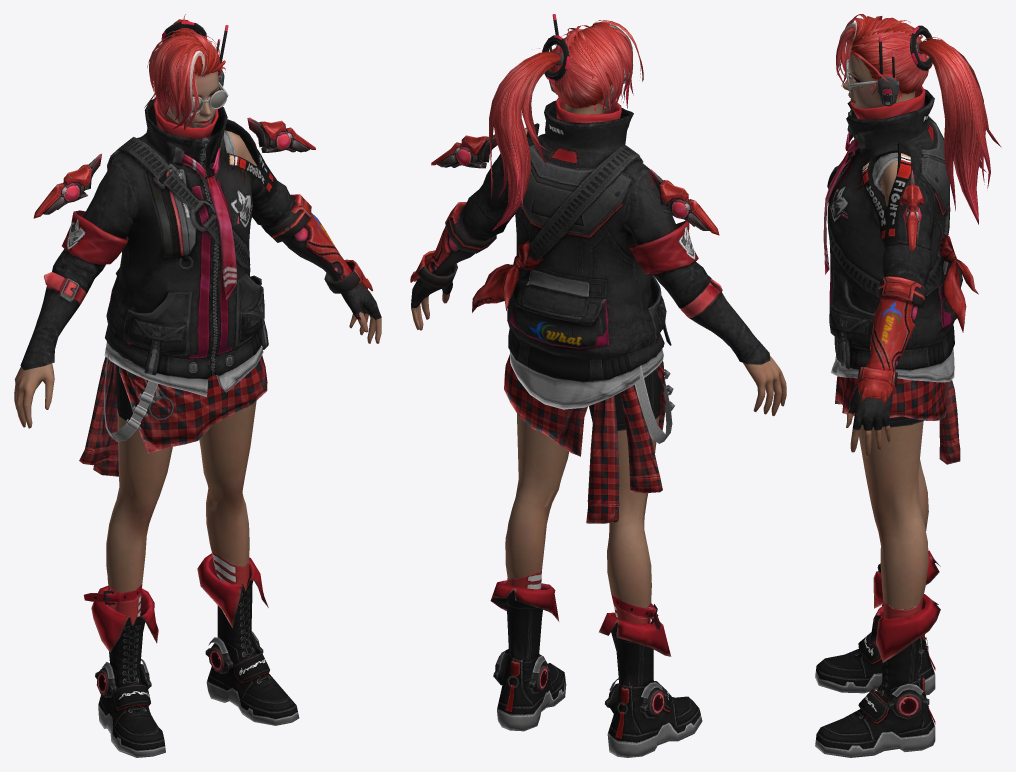
Rendered from Collage Girl.obj.
3 views of the same model, side by side, from view 1: azimuth 30°, elevation 25°; view 2: azimuth 150°, elevation 25°; view 3: azimuth 270°, elevation 25° (orthographic). The views are drawn at different scales.
Parts seen in each view (by area): view 1: female_top_cos_college_female_lobby_top_cos_college.002, female_Bottom_cos_college_female_lobby_top_cos_college.008, female_Shoes_cos_college_female_lobby_top_cos_college.007, female_Hair_cos_college_female_lobby_top_cos_college.001, female_Head_cos_college_female_lobby_top_cos_college.004, female_accesery_cos_college_female_lobby_top_cos_college.006; view 2: female_top_cos_college_female_lobby_top_cos_college.002, female_Bottom_cos_college_female_lobby_top_cos_college.008, female_Shoes_cos_college_female_lobby_top_cos_college.007, female_Hair_cos_college_female_lobby_top_cos_college.001, female_accesery_cos_college_female_lobby_top_cos_college.006; view 3: female_top_cos_college_female_lobby_top_cos_college.002, female_Bottom_cos_college_female_lobby_top_cos_college.008, female_Shoes_cos_college_female_lobby_top_cos_college.007, female_Hair_cos_college_female_lobby_top_cos_college.001, female_accesery_cos_college_female_lobby_top_cos_college.006, female_Head_cos_college_female_lobby_top_cos_college.004.
Boxes of the visible parts, left/top/right/bottom form: female_top_cos_college_female_lobby_top_cos_college.002: left=14, top=98, right=381, bottom=428; female_Bottom_cos_college_female_lobby_top_cos_college.008: left=79, top=341, right=267, bottom=625; female_Shoes_cos_college_female_lobby_top_cos_college.007: left=91, top=553, right=299, bottom=757; female_Hair_cos_college_female_lobby_top_cos_college.001: left=144, top=14, right=225, bottom=130; female_Head_cos_college_female_lobby_top_cos_college.004: left=160, top=64, right=218, bottom=127; female_accesery_cos_college_female_lobby_top_cos_college.006: left=161, top=21, right=228, bottom=115; female_top_cos_college_female_lobby_top_cos_college.002: left=410, top=97, right=786, bottom=416; female_Bottom_cos_college_female_lobby_top_cos_college.008: left=504, top=337, right=674, bottom=685; female_Shoes_cos_college_female_lobby_top_cos_college.007: left=490, top=580, right=702, bottom=757; female_Hair_cos_college_female_lobby_top_cos_college.001: left=489, top=20, right=643, bottom=230; female_accesery_cos_college_female_lobby_top_cos_college.006: left=542, top=14, right=629, bottom=93; female_top_cos_college_female_lobby_top_cos_college.002: left=823, top=86, right=978, bottom=457; female_Bottom_cos_college_female_lobby_top_cos_college.008: left=835, top=376, right=960, bottom=618; female_Shoes_cos_college_female_lobby_top_cos_college.007: left=815, top=550, right=940, bottom=757; female_Hair_cos_college_female_lobby_top_cos_college.001: left=836, top=14, right=1001, bottom=224; female_accesery_cos_college_female_lobby_top_cos_college.006: left=845, top=25, right=932, bottom=106; female_Head_cos_college_female_lobby_top_cos_college.004: left=842, top=51, right=915, bottom=108.
Bounding box in the file's own units: 2.73 × 4.95 × 1.2.
Materials: 8 (8 with a texture image).
